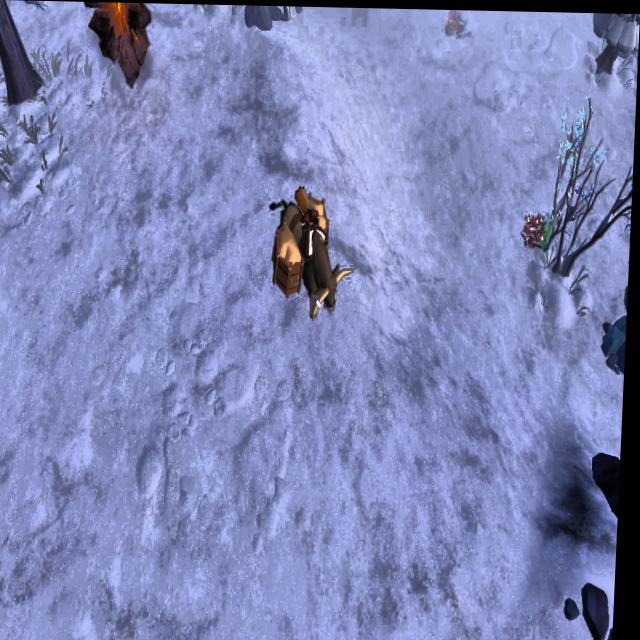fiber_t5: (521, 202, 550, 248)
rock_t4: (602, 307, 630, 367)
